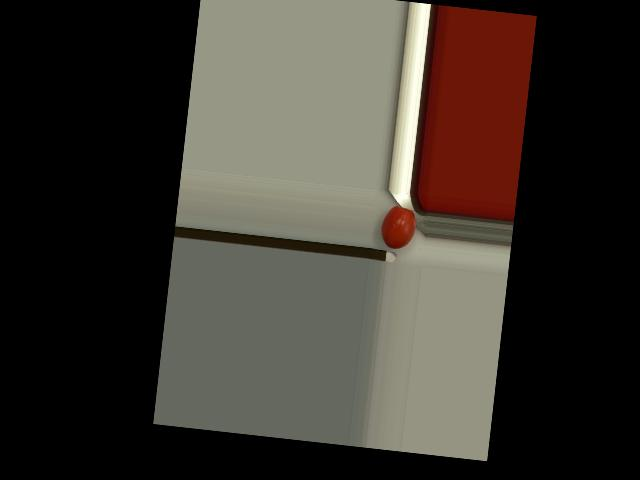tomato: (379, 204, 417, 250)
